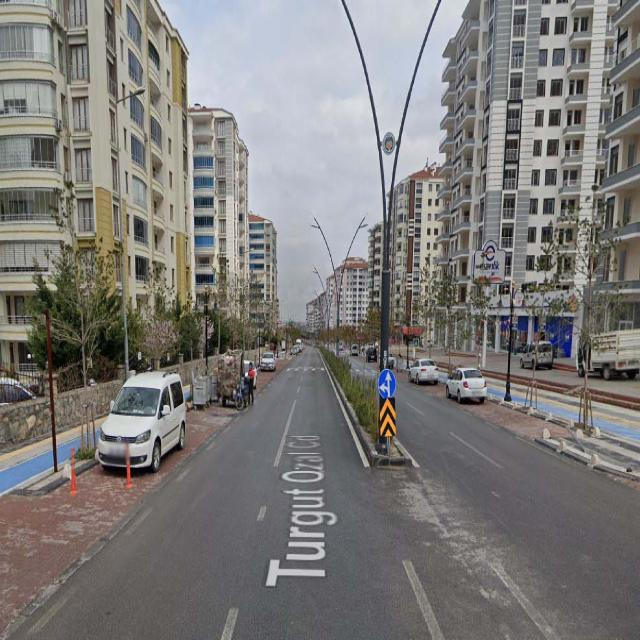ilerisol: (378, 370, 396, 397)
